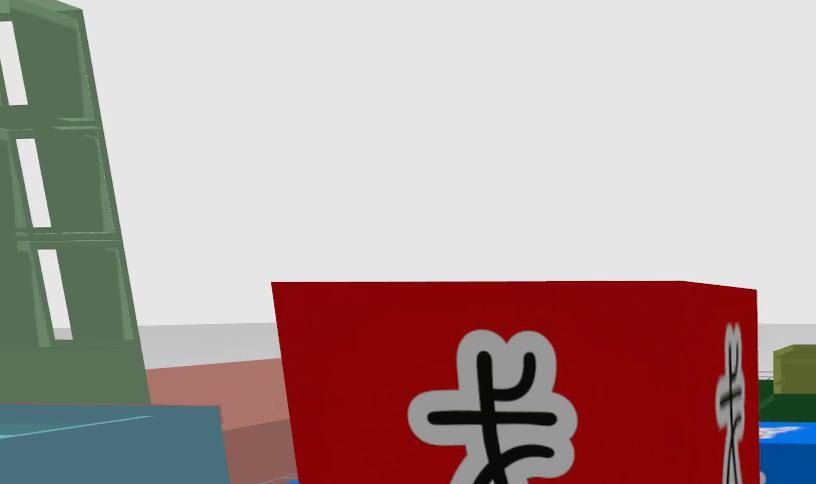KFS_FAKE: (272, 281, 761, 484), (408, 330, 577, 484), (716, 323, 747, 484)
KFS_REAL: (759, 420, 816, 484)
